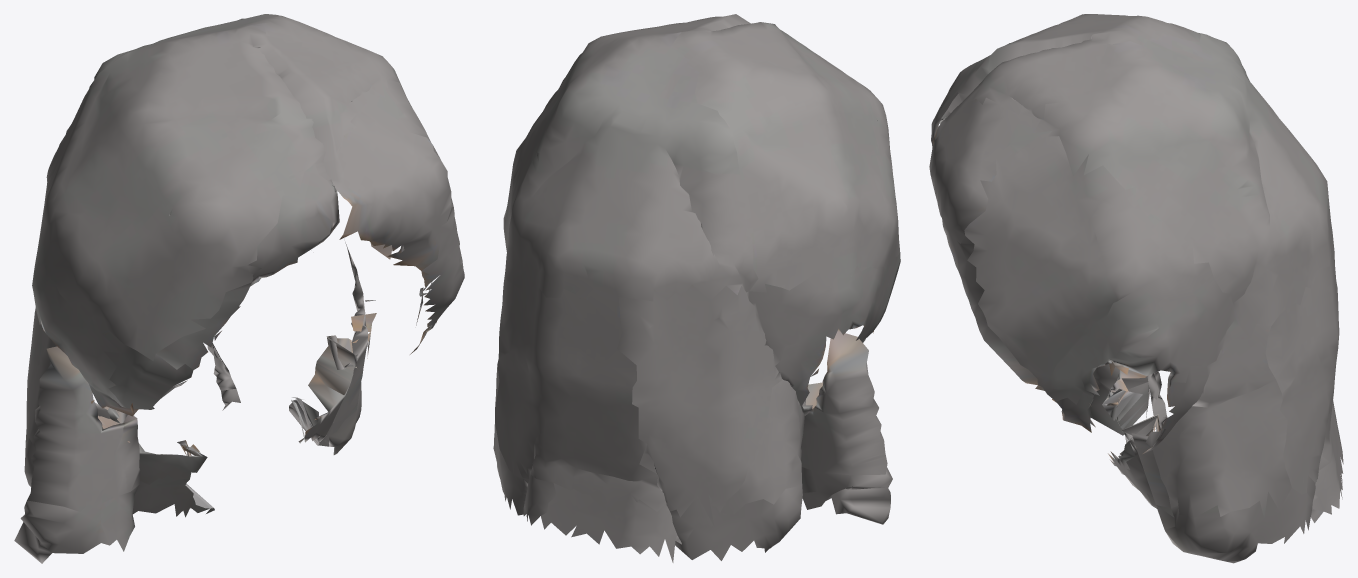
Rendered from long-straight.glb.
The picture shows the model from 3 angles, left to right: view 1: azimuth 30°, elevation 25°; view 2: azimuth 150°, elevation 25°; view 3: azimuth 270°, elevation 25°; orthographic projection. The views are drawn at different scales.
Visible parts, largest first — view 1: hair_long-straight_0; view 2: hair_long-straight_0; view 3: hair_long-straight_0.
Part boxes in pixels (x1=…): hair_long-straight_0: x1=14, y1=14, x2=464, y2=563; hair_long-straight_0: x1=493, y1=14, x2=900, y2=562; hair_long-straight_0: x1=929, y1=14, x2=1343, y2=563.
Size of the model in its own units: 0.5403 by 0.6227 by 0.4932.
1 material, 1 textured.
